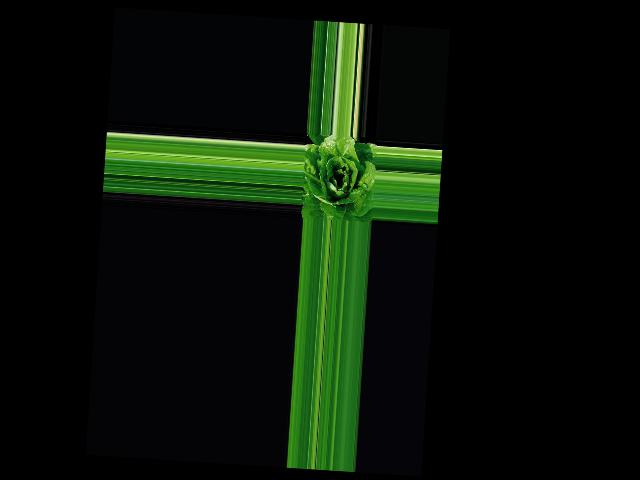lettuce: (299, 137, 374, 221)
